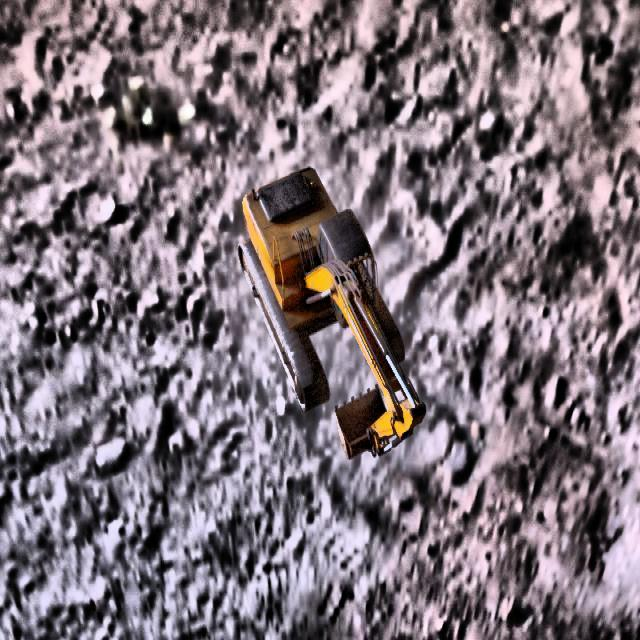excavator: (237, 165, 426, 459)
